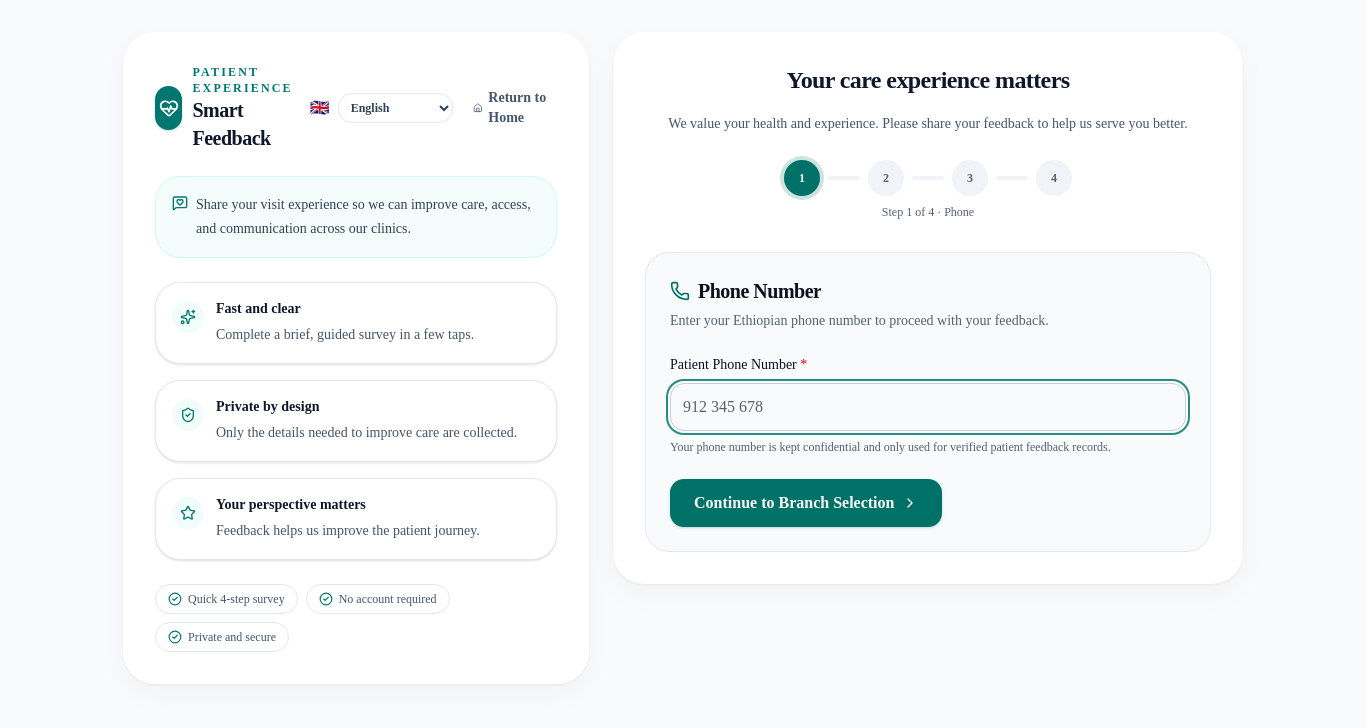
it: PatientFeedbackForm — accessibility › exposes each selection as a labelled radio group
Type "0912345678" into the field labelled "Patient Phone Number *".
click(928, 407); type("0912345678")  # box 670,383 -> 1186,431
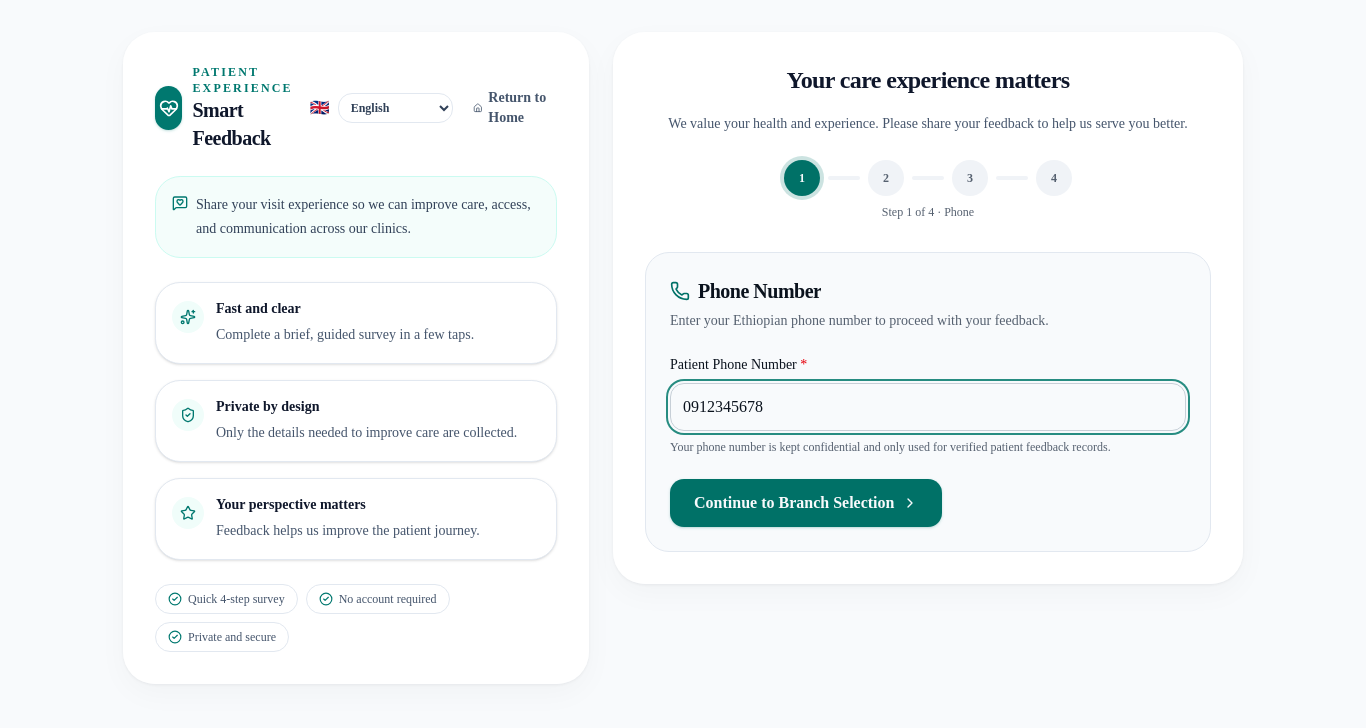
Click the button "Continue to Branch Selection".
click(806, 503)  # box 670,479 -> 942,527
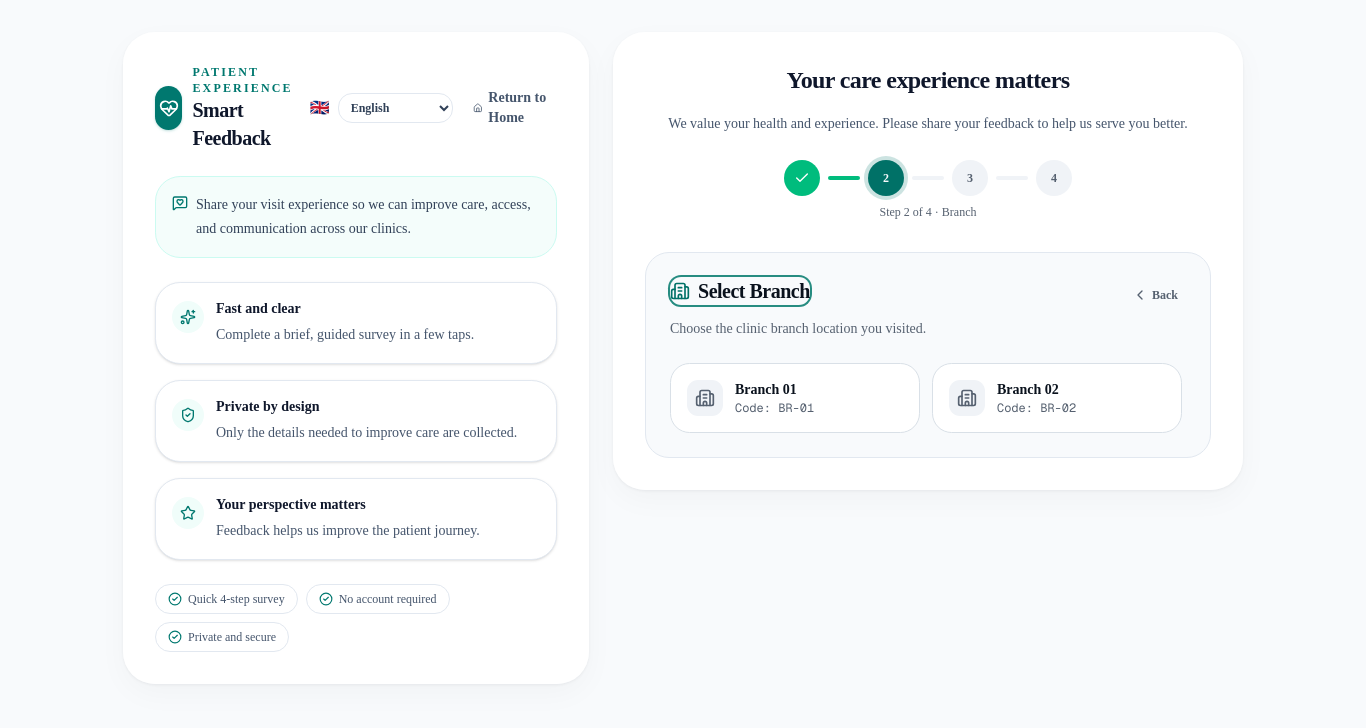
Check: the heading "Select Branch" is shown, box 670,277 -> 810,305
Click the radio button labelled "Branch 01 Code: BR-01".
click(795, 398)  # box 670,363 -> 920,433
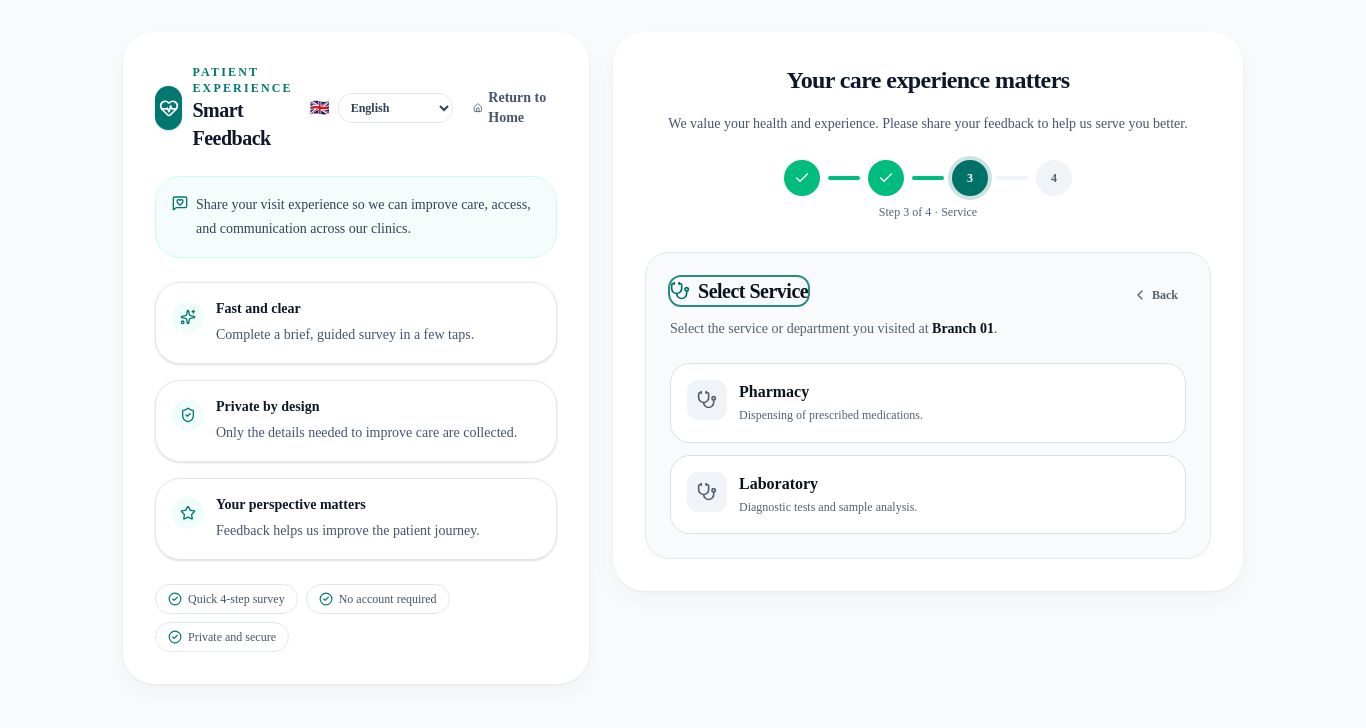
Check: the heading "Select Service" is shown, box 670,277 -> 808,305
Click the radio button labelled "Pharmacy Dispensing of prescribed medications.".
click(707, 400)  # box 670,363 -> 1186,442
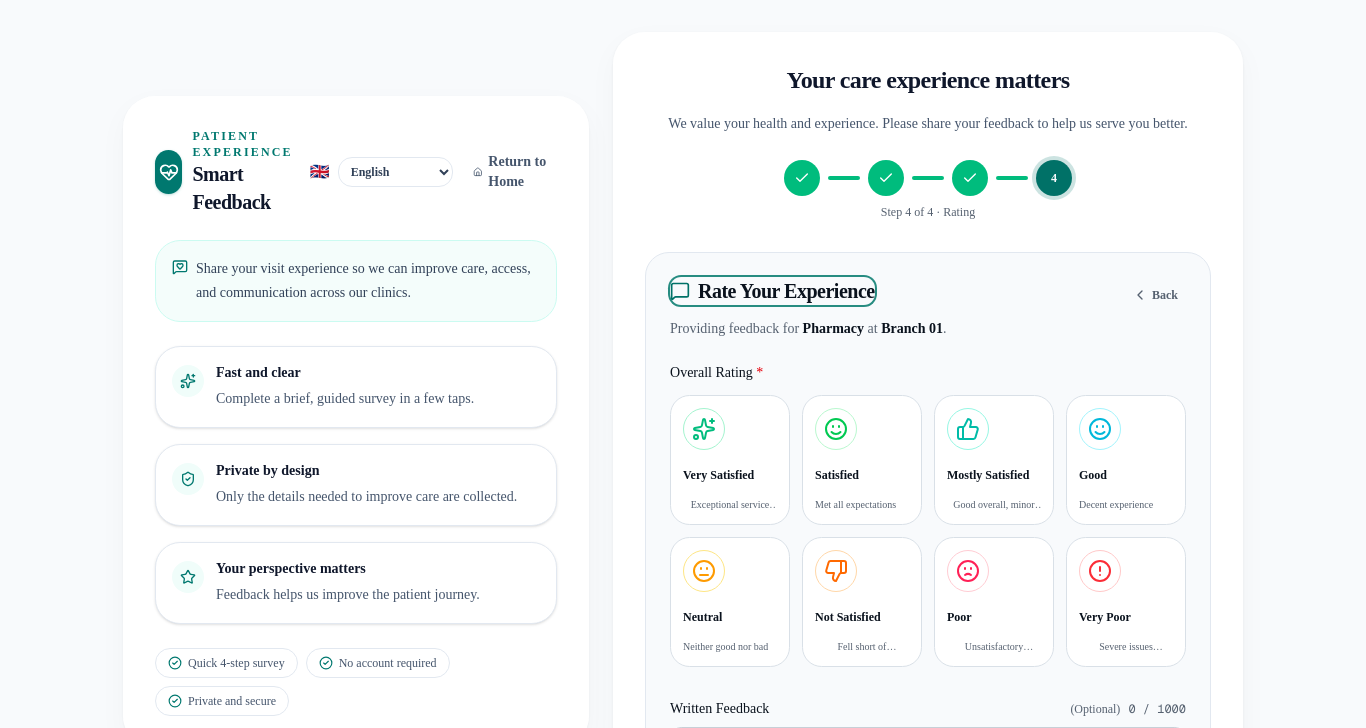
Check: the heading "Rate Your Experience" is shown, box 670,277 -> 875,305
